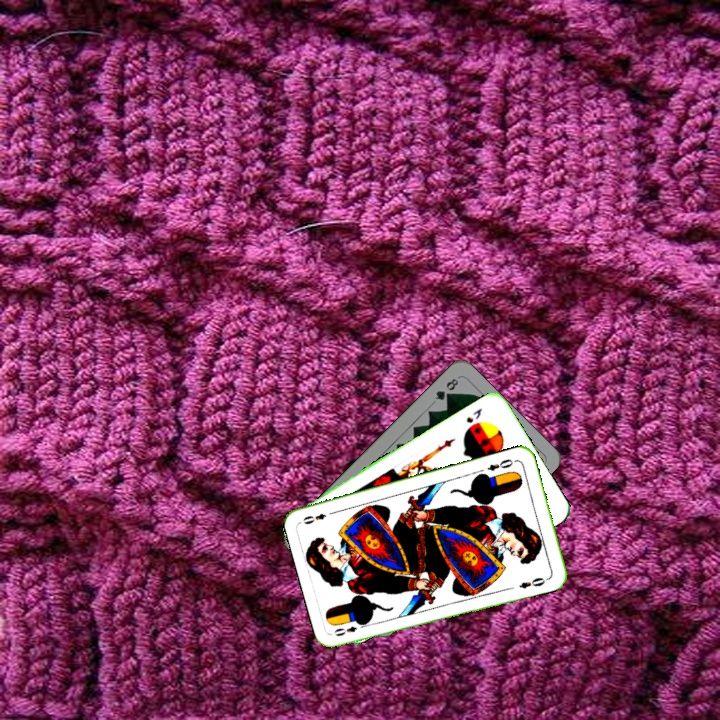EO: (483, 455, 516, 473), (330, 622, 360, 639)
G8: (431, 374, 461, 403)
SK: (462, 404, 485, 426)
